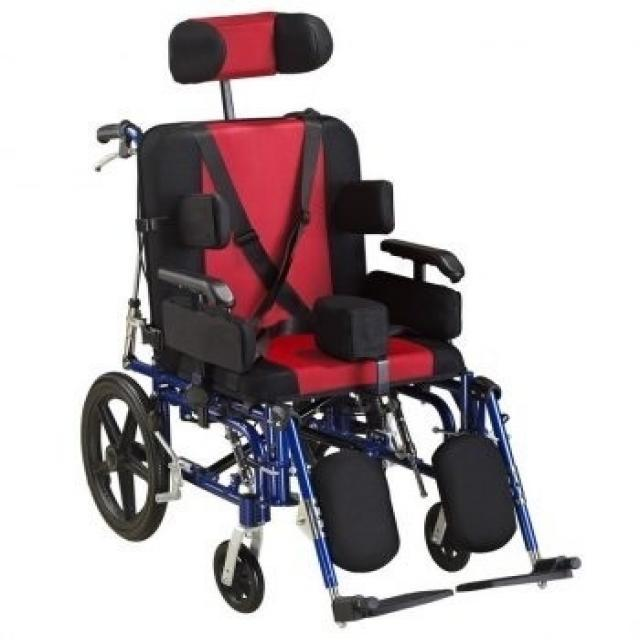wheelchair: (55, 0, 596, 637)
